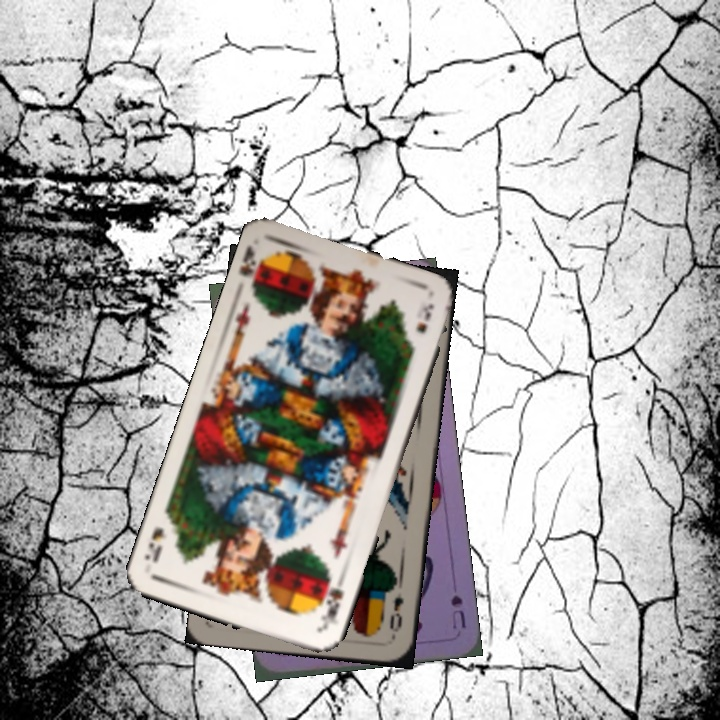EO: (385, 580, 407, 640)
SK: (313, 571, 348, 631), (235, 242, 268, 299)
SU: (446, 591, 469, 632)
